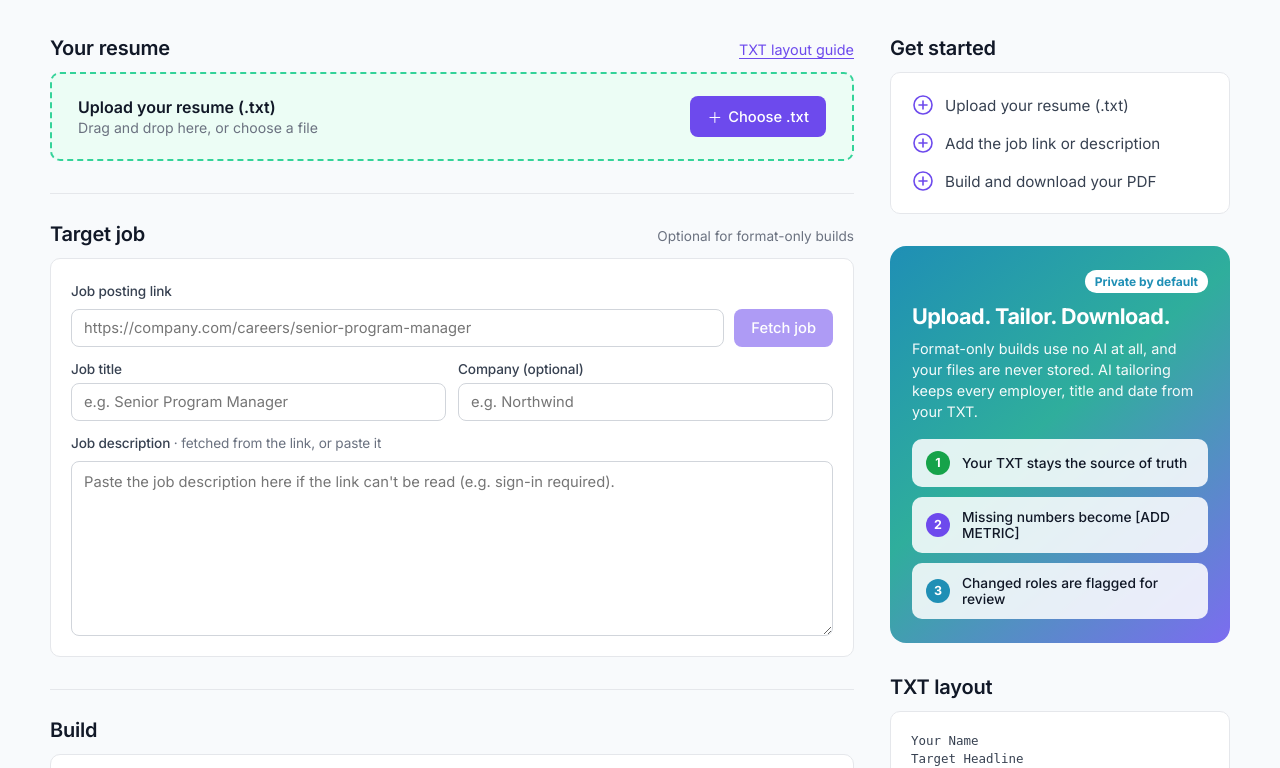
Test: StudioDashboard › fetches the job description from a link and fills the form
Type "https://jobs.example.com/42" into the field labelled "Job posting link" at (398, 328), box [71, 309, 724, 347]
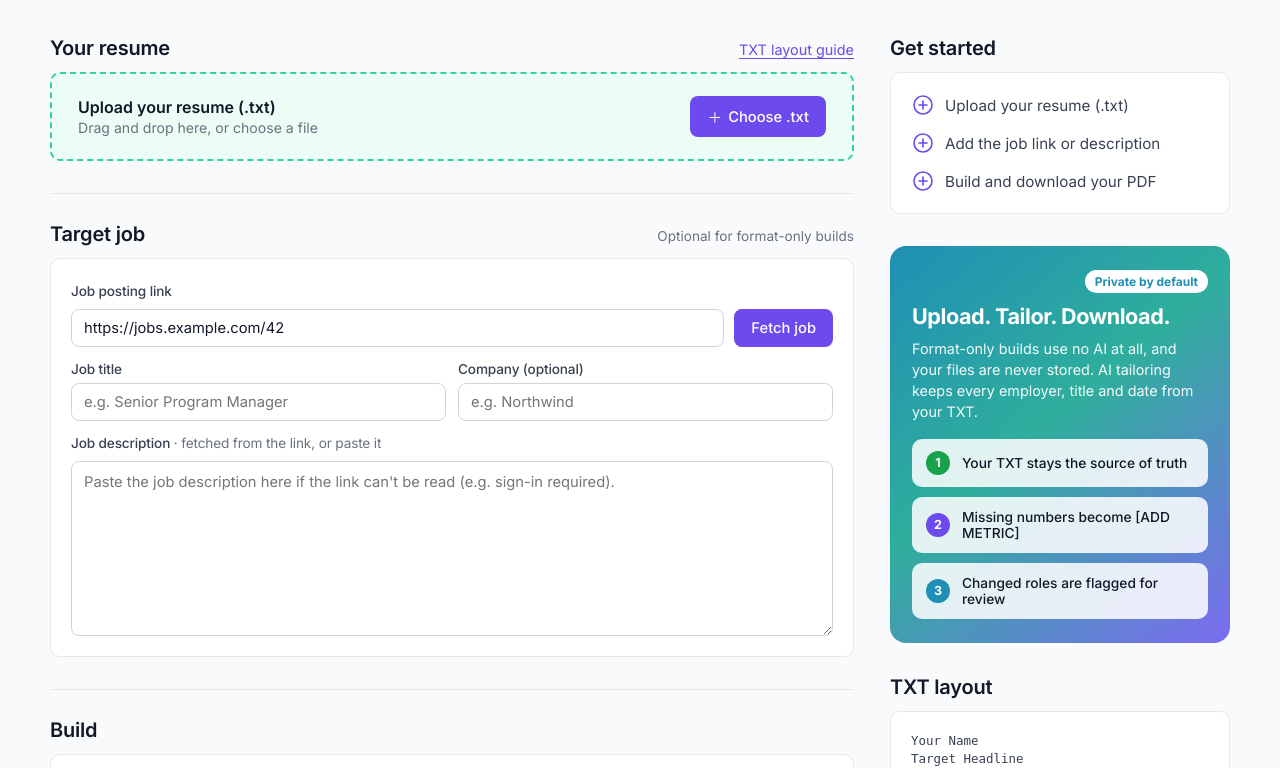
Click the button "Fetch job" at (784, 328), box [734, 309, 833, 347]
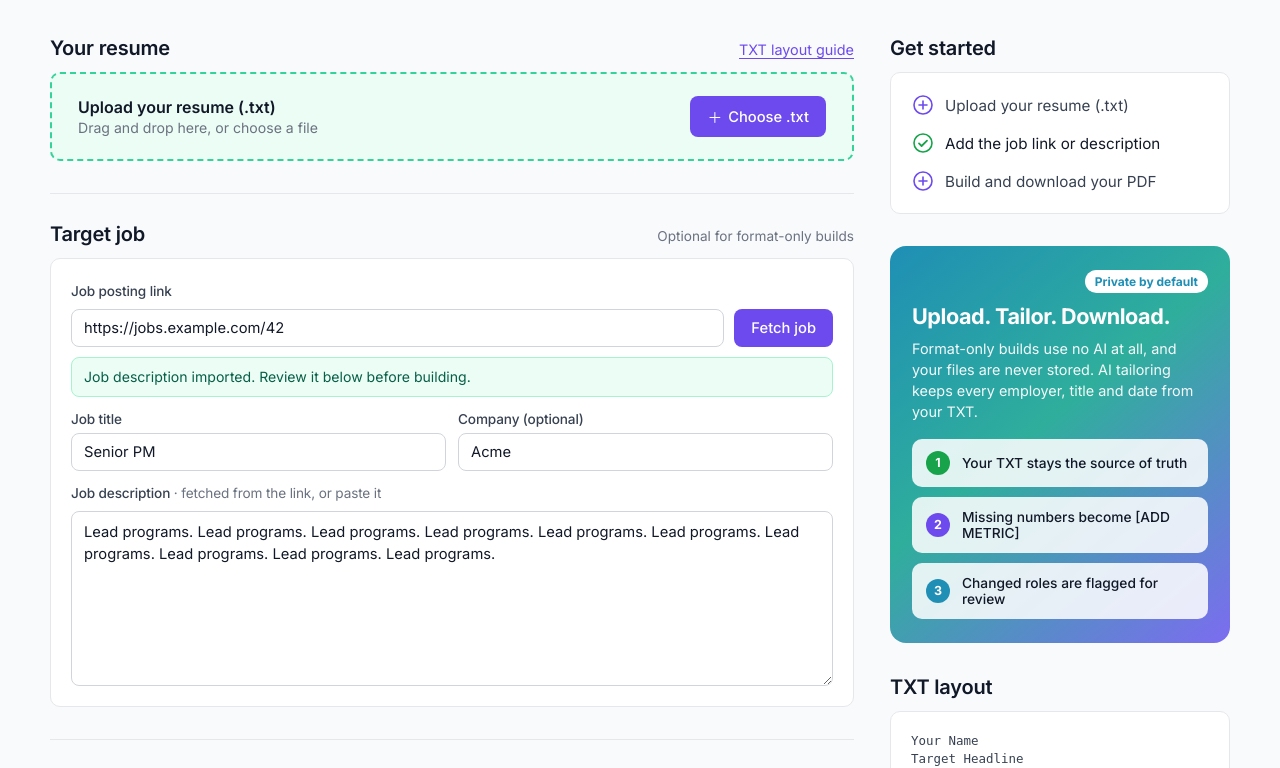
Expected: the field labelled "Job title" holds "Senior PM", [71, 433, 446, 471]
Expected: the field labelled "Company (optional)" holds "Acme", [458, 433, 833, 471]
Expected: the text "Job description imported. Review it below before building." is shown, [71, 357, 833, 397]
